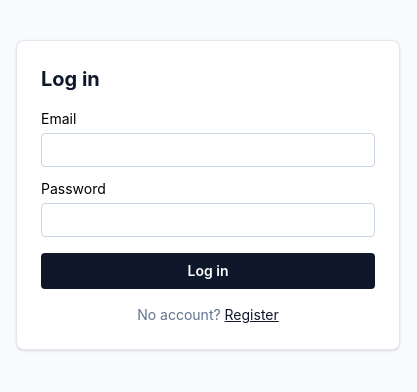
LoginPage › shows the server's error message on failed login
In the field labelled "Email": x=208, y=150 left=41, top=133, right=375, bottom=167, type "a@b.com"
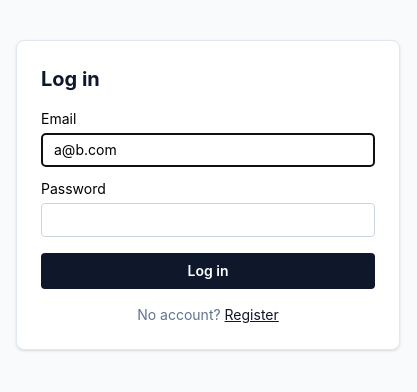
In the password field labelled "Password": x=208, y=220 left=41, top=203, right=375, bottom=237, type "wrongpass"
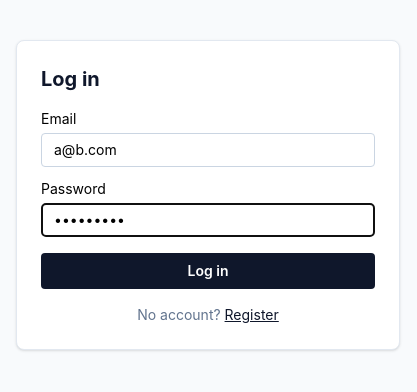
Click the button "Log in": x=208, y=271 left=41, top=253, right=375, bottom=289
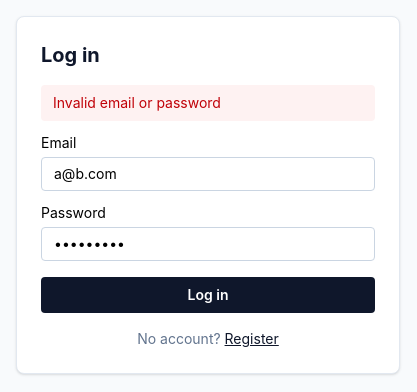
Expected: the text "Invalid email or password" is shown, left=41, top=85, right=375, bottom=121
